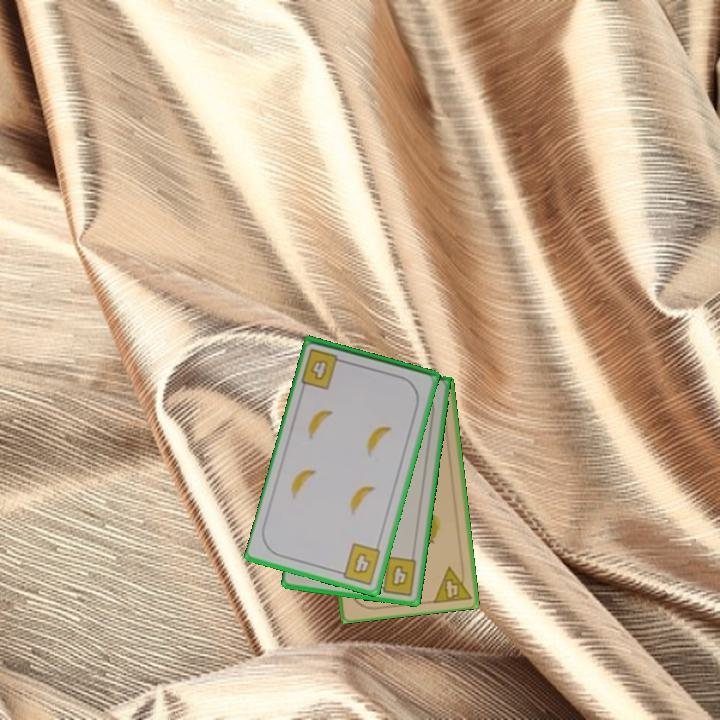4b: (334, 539, 384, 588), (298, 345, 349, 392), (372, 553, 420, 598)
4p: (429, 560, 474, 606)
